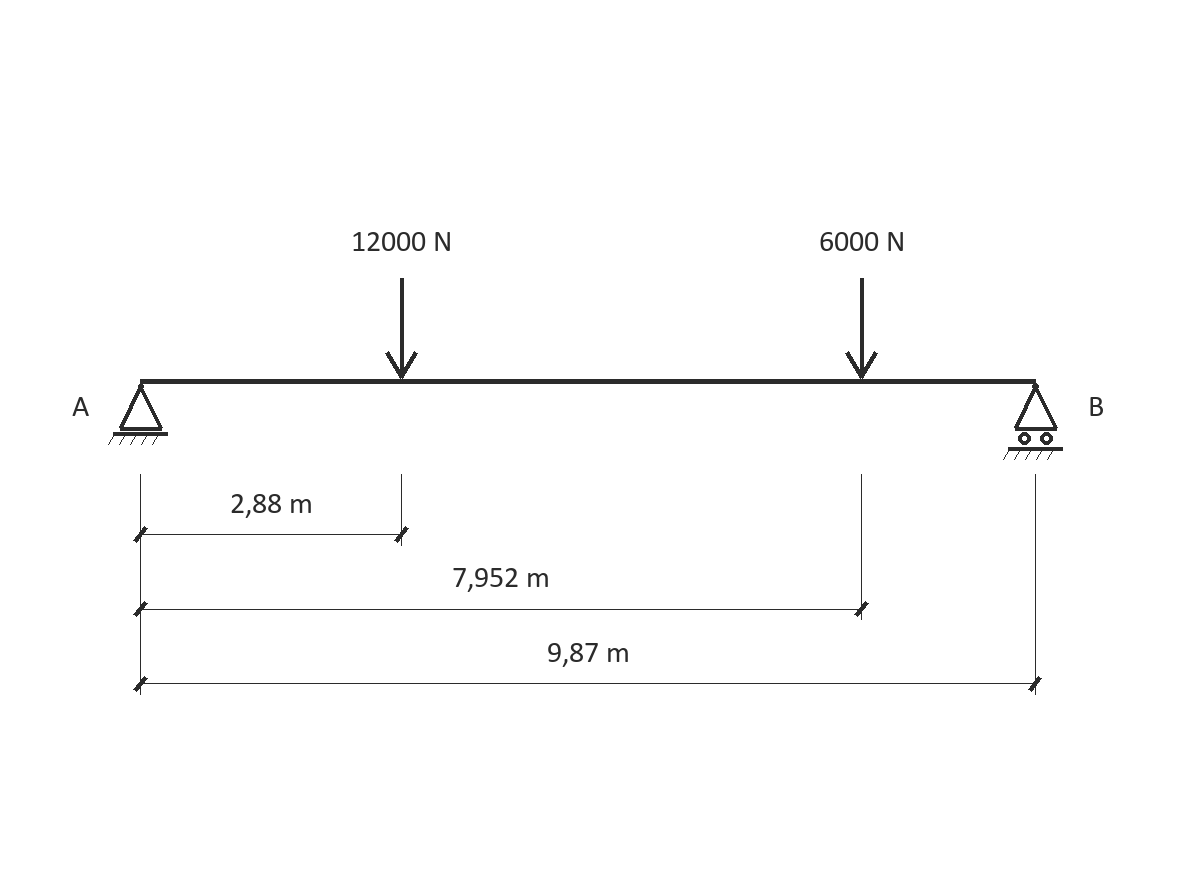pin_support: (108, 383, 168, 445)
point_load: (385, 278, 418, 379), (845, 278, 878, 379)
roller_support: (1003, 383, 1063, 460)
